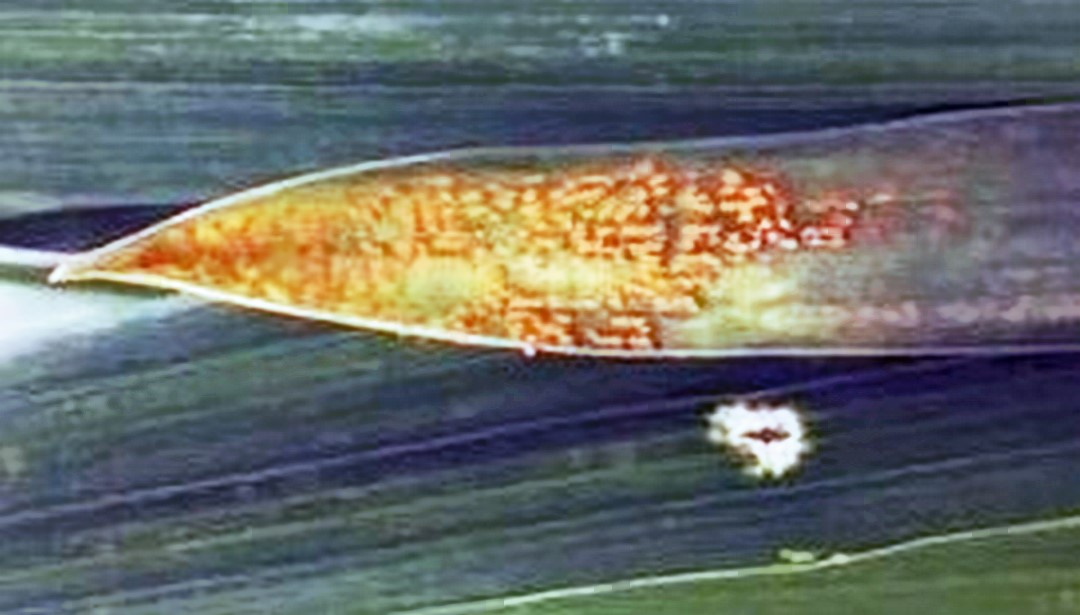Leaf Rust: (197, 146, 844, 366)
